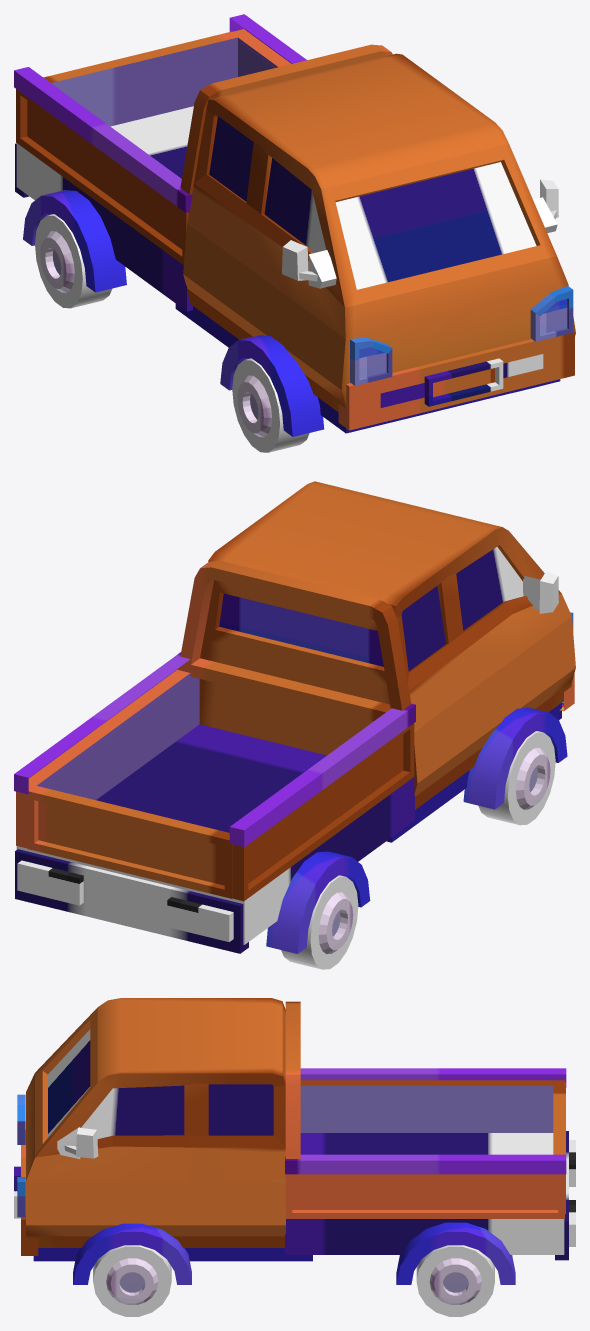
Rendered from Green_Small_Truck_Open.fbx.
3 renders of one model, top to bottom at view 1: azimuth 30°, elevation 25°; view 2: azimuth 150°, elevation 25°; view 3: azimuth 270°, elevation 25°, orthographic. The views are drawn at different scales.
Parts seen in each view (by area): view 1: Green_Small_Truck, Green_Small_Truck_Back_Door; view 2: Green_Small_Truck, Green_Small_Truck_Back_Door; view 3: Green_Small_Truck, Green_Small_Truck_Back_Door.
Part boxes in pixels (x1,y1,x2,y2): Green_Small_Truck: (14, 14, 575, 452); Green_Small_Truck_Back_Door: (43, 31, 238, 126); Green_Small_Truck: (14, 481, 575, 969); Green_Small_Truck_Back_Door: (27, 785, 232, 898); Green_Small_Truck: (14, 998, 575, 1316); Green_Small_Truck_Back_Door: (553, 1085, 565, 1214).
Size of the model in its own units: 201 by 185 by 417.
